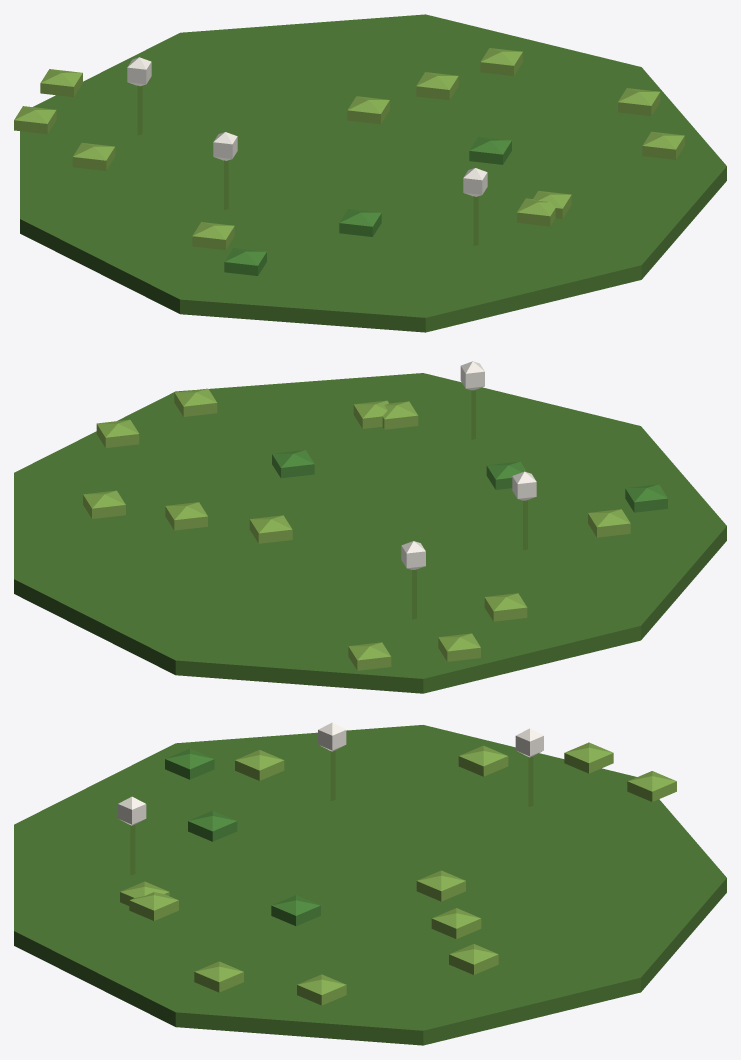
The model's file is cover_clover.glb.
3 renders of one model, top to bottom at view 1: azimuth 30°, elevation 25°; view 2: azimuth 150°, elevation 25°; view 3: azimuth 270°, elevation 25°, orthographic.
Visible parts, largest first — view 1: scatter_clover; view 2: scatter_clover; view 3: scatter_clover.
Boxes of the visible parts, <box> form: scatter_clover: <box>14,14,726,332</box>; scatter_clover: <box>14,361,726,693</box>; scatter_clover: <box>14,722,726,1045</box>.
Size of the model in its own units: 1.77 by 0.26 by 1.75.
